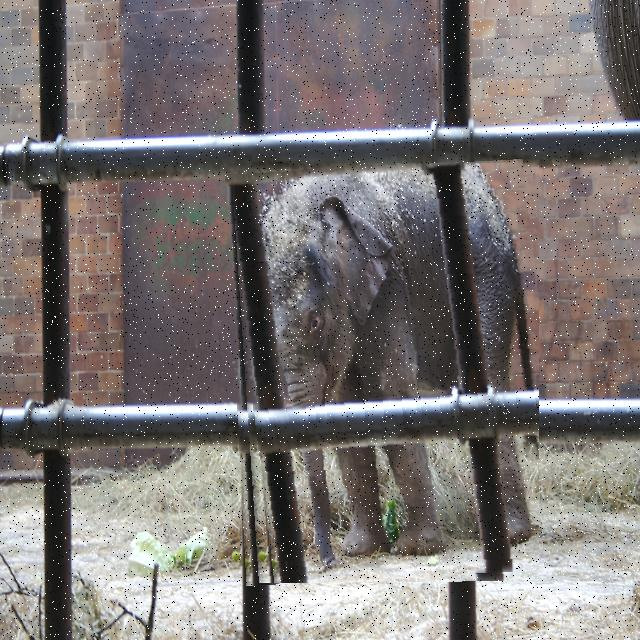elephant: (231, 163, 539, 583)
